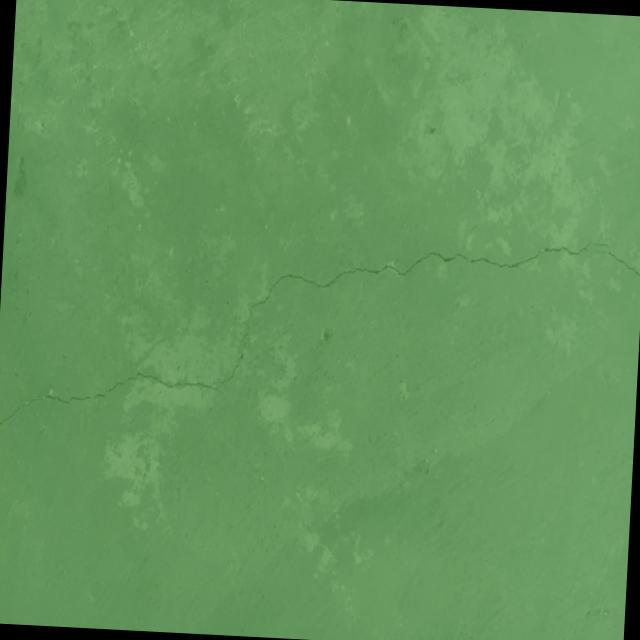crack: (0, 208, 640, 463)
